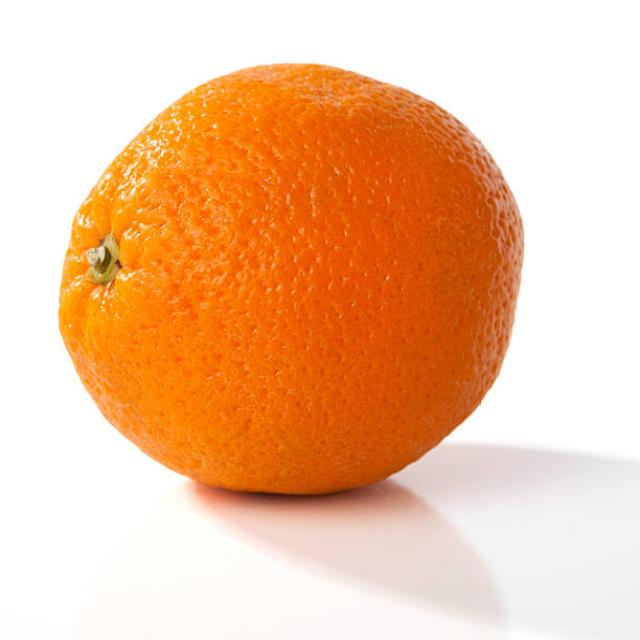Good_Orange: (58, 62, 526, 499)
